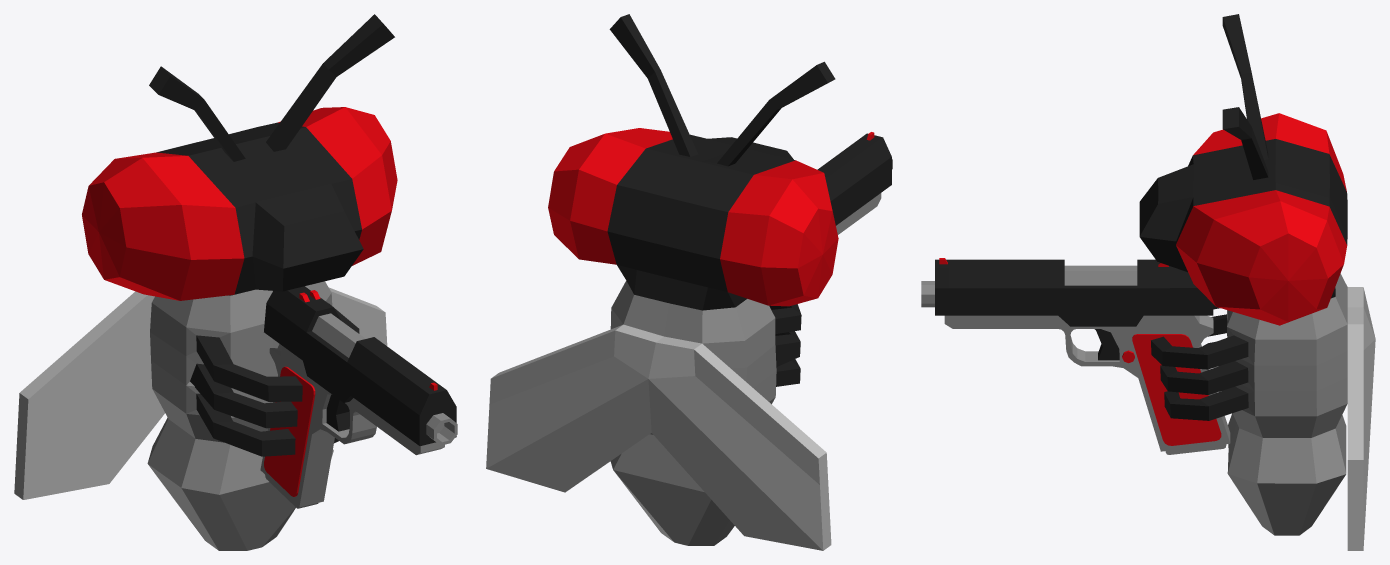
The model's file is Mushroom Fly.fbx.
The picture shows the model from 3 angles, left to right: view 1: azimuth 30°, elevation 25°; view 2: azimuth 150°, elevation 25°; view 3: azimuth 270°, elevation 25°; orthographic projection. The views are drawn at different scales.
Parts seen in each view (by area): view 1: Fly, Gun Slide, Body; view 2: Fly, Gun Slide, Body; view 3: Fly, Gun Slide, Body.
Boxes of the visible parts, x1,y1,x2,y2 form: Fly: (14, 14, 397, 550); Gun Slide: (264, 286, 456, 445); Body: (260, 344, 457, 508); Fly: (486, 14, 838, 550); Gun Slide: (817, 132, 891, 225); Body: (836, 159, 892, 234); Fly: (1139, 14, 1375, 550); Gun Slide: (935, 258, 1213, 326); Body: (921, 281, 1230, 454).
Size of the model in its own units: 624 by 842 by 749.
